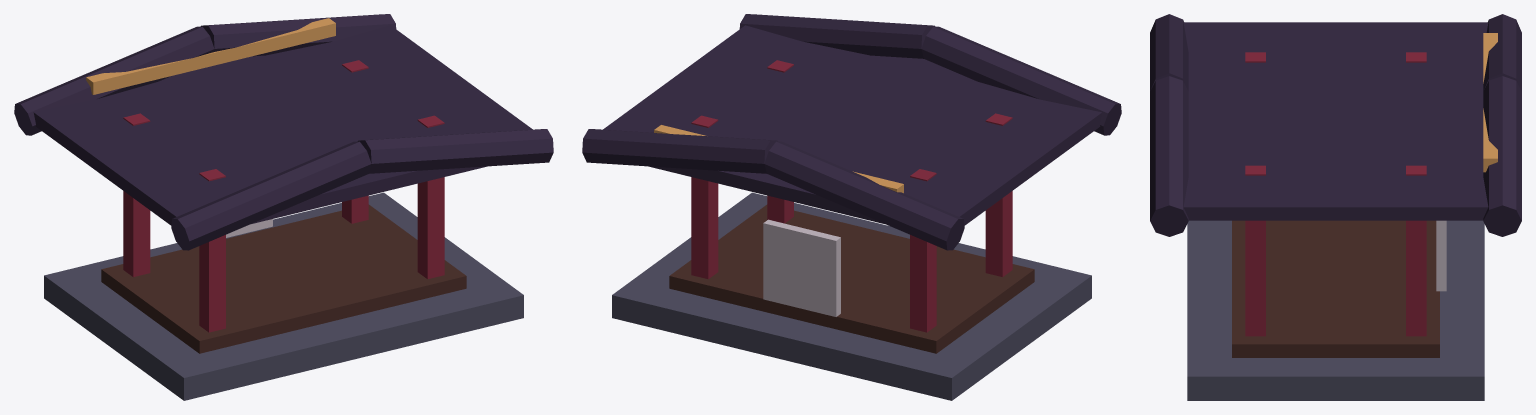
The model's file is kage_dojo_shrine_module.obj.
The picture shows the model from 3 angles, left to right: view 1: azimuth 30°, elevation 25°; view 2: azimuth 150°, elevation 25°; view 3: azimuth 270°, elevation 25°; orthographic projection. The views are drawn at different scales.
Parts seen in each view (by area): view 1: kage_dojo_shrine_module_10, kage_dojo_shrine_module_01, kage_dojo_shrine_module_00, kage_dojo_shrine_module_07, kage_dojo_shrine_module_09, kage_dojo_shrine_module_06, kage_dojo_shrine_module_11, kage_dojo_shrine_module_08, kage_dojo_shrine_module_05, kage_dojo_shrine_module_03, kage_dojo_shrine_module_02, kage_dojo_shrine_module_04; view 2: kage_dojo_shrine_module_10, kage_dojo_shrine_module_00, kage_dojo_shrine_module_01, kage_dojo_shrine_module_06, kage_dojo_shrine_module_08, kage_dojo_shrine_module_07, kage_dojo_shrine_module_12, kage_dojo_shrine_module_09, kage_dojo_shrine_module_04, kage_dojo_shrine_module_02, kage_dojo_shrine_module_03, kage_dojo_shrine_module_05 (+1 smaller); view 3: kage_dojo_shrine_module_10, kage_dojo_shrine_module_00, kage_dojo_shrine_module_01, kage_dojo_shrine_module_09, kage_dojo_shrine_module_08, kage_dojo_shrine_module_04, kage_dojo_shrine_module_05, kage_dojo_shrine_module_07, kage_dojo_shrine_module_06, kage_dojo_shrine_module_11, kage_dojo_shrine_module_12.
Part boxes in pixels (x1=…): kage_dojo_shrine_module_10: x1=33, y1=25, x2=532, y2=225; kage_dojo_shrine_module_01: x1=101, y1=204, x2=466, y2=353; kage_dojo_shrine_module_00: x1=44, y1=192, x2=523, y2=400; kage_dojo_shrine_module_07: x1=171, y1=141, x2=371, y2=250; kage_dojo_shrine_module_09: x1=357, y1=129, x2=553, y2=173; kage_dojo_shrine_module_06: x1=14, y1=26, x2=214, y2=135; kage_dojo_shrine_module_11: x1=86, y1=18, x2=335, y2=94; kage_dojo_shrine_module_08: x1=200, y1=14, x2=396, y2=56; kage_dojo_shrine_module_05: x1=417, y1=115, x2=444, y2=279; kage_dojo_shrine_module_03: x1=199, y1=169, x2=225, y2=332; kage_dojo_shrine_module_02: x1=123, y1=113, x2=150, y2=277; kage_dojo_shrine_module_04: x1=342, y1=60, x2=368, y2=223; kage_dojo_shrine_module_10: x1=603, y1=25, x2=1102, y2=225; kage_dojo_shrine_module_00: x1=612, y1=192, x2=1091, y2=400; kage_dojo_shrine_module_01: x1=669, y1=204, x2=1034, y2=353; kage_dojo_shrine_module_06: x1=764, y1=141, x2=964, y2=250; kage_dojo_shrine_module_08: x1=582, y1=129, x2=778, y2=173; kage_dojo_shrine_module_07: x1=921, y1=26, x2=1121, y2=135; kage_dojo_shrine_module_12: x1=763, y1=219, x2=840, y2=316; kage_dojo_shrine_module_09: x1=739, y1=14, x2=935, y2=58; kage_dojo_shrine_module_04: x1=691, y1=115, x2=718, y2=279; kage_dojo_shrine_module_02: x1=910, y1=169, x2=936, y2=332; kage_dojo_shrine_module_03: x1=985, y1=113, x2=1012, y2=277; kage_dojo_shrine_module_05: x1=767, y1=60, x2=793, y2=223; kage_dojo_shrine_module_10: x1=1183, y1=22, x2=1488, y2=220; kage_dojo_shrine_module_00: x1=1187, y1=220, x2=1484, y2=400; kage_dojo_shrine_module_01: x1=1232, y1=220, x2=1439, y2=357; kage_dojo_shrine_module_09: x1=1150, y1=76, x2=1188, y2=236; kage_dojo_shrine_module_08: x1=1483, y1=76, x2=1521, y2=236; kage_dojo_shrine_module_04: x1=1406, y1=165, x2=1426, y2=336; kage_dojo_shrine_module_05: x1=1245, y1=165, x2=1265, y2=336; kage_dojo_shrine_module_07: x1=1150, y1=14, x2=1188, y2=91; kage_dojo_shrine_module_06: x1=1483, y1=14, x2=1521, y2=91; kage_dojo_shrine_module_11: x1=1483, y1=33, x2=1497, y2=172; kage_dojo_shrine_module_12: x1=1436, y1=220, x2=1446, y2=291.
Bounding box in the file's own units: 15.22 × 8.84 × 12.5.
